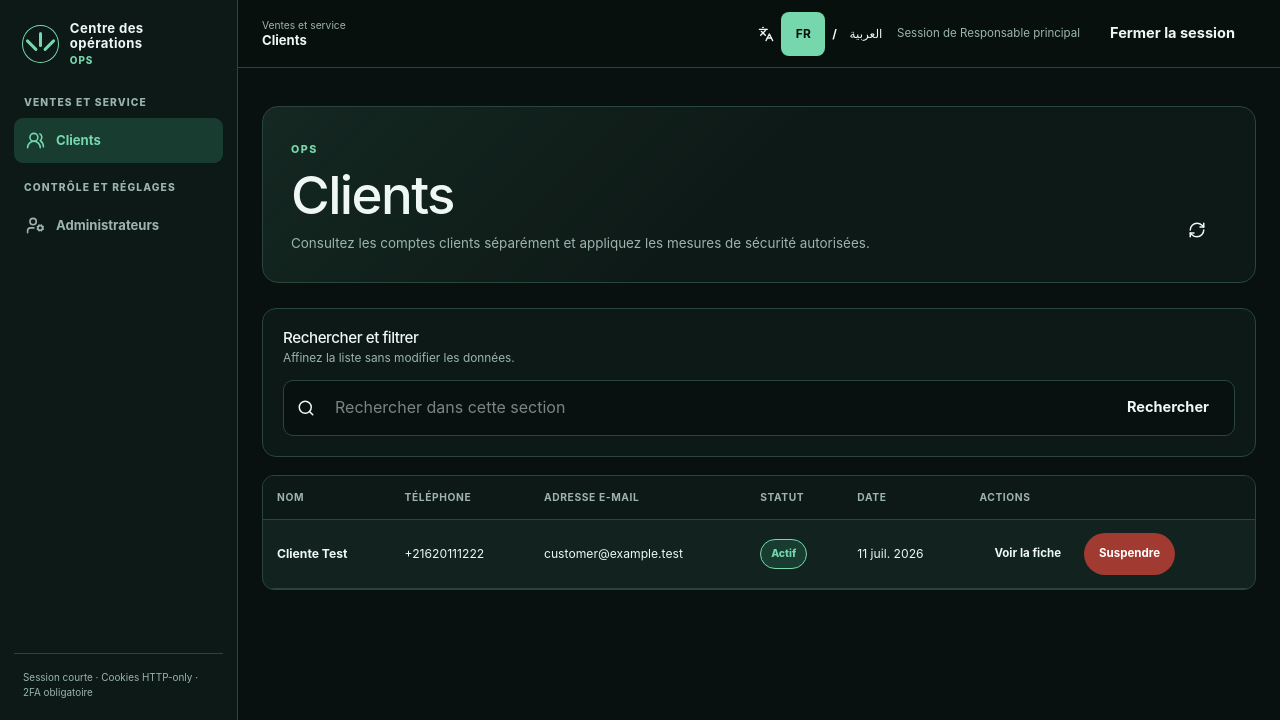
Test: separated administrator and customer account management › opens the operational customer record without exposing authentication secrets
Click the button "Voir la fiche" at [1028, 554], box left=979, top=532, right=1076, bottom=574
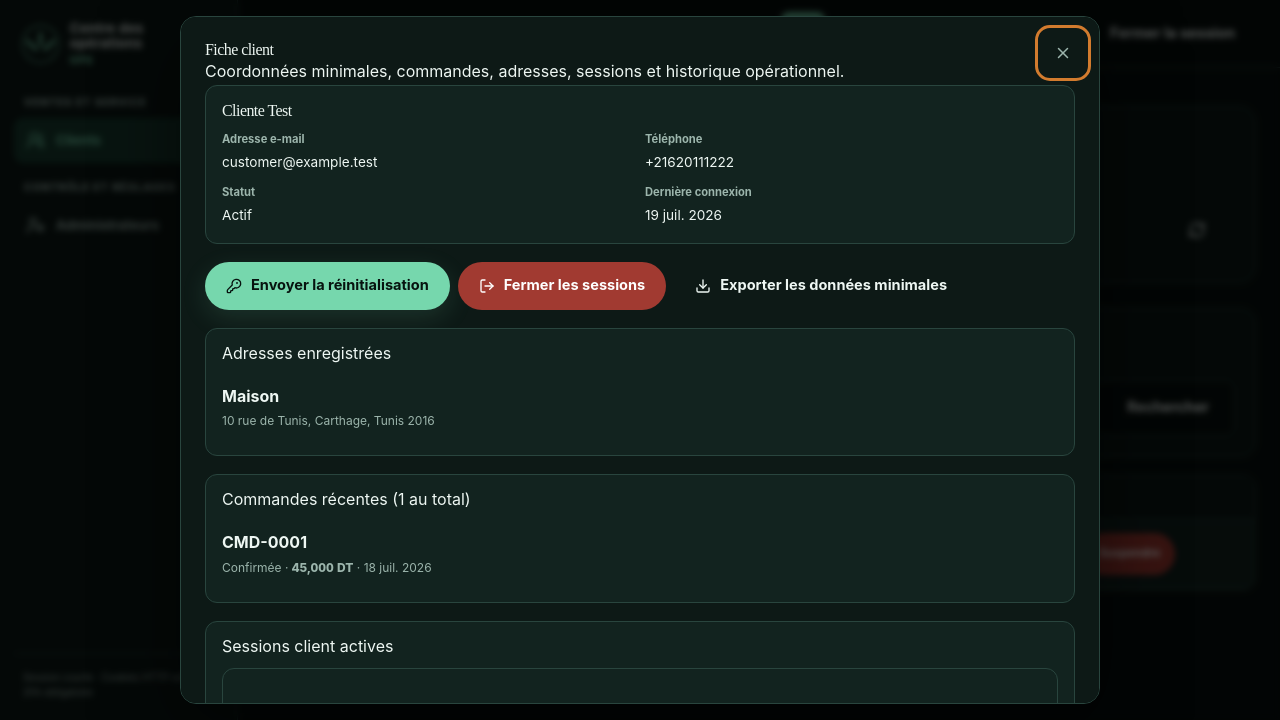
Check: the heading "Cliente Test" is shown, box left=222, top=102, right=292, bottom=118
Check: the text "10 rue de Tunis, Carthage, Tunis 2016" is shown, box left=222, top=413, right=435, bottom=428
Check: the text "CMD-0001" is shown, box left=222, top=532, right=307, bottom=552
